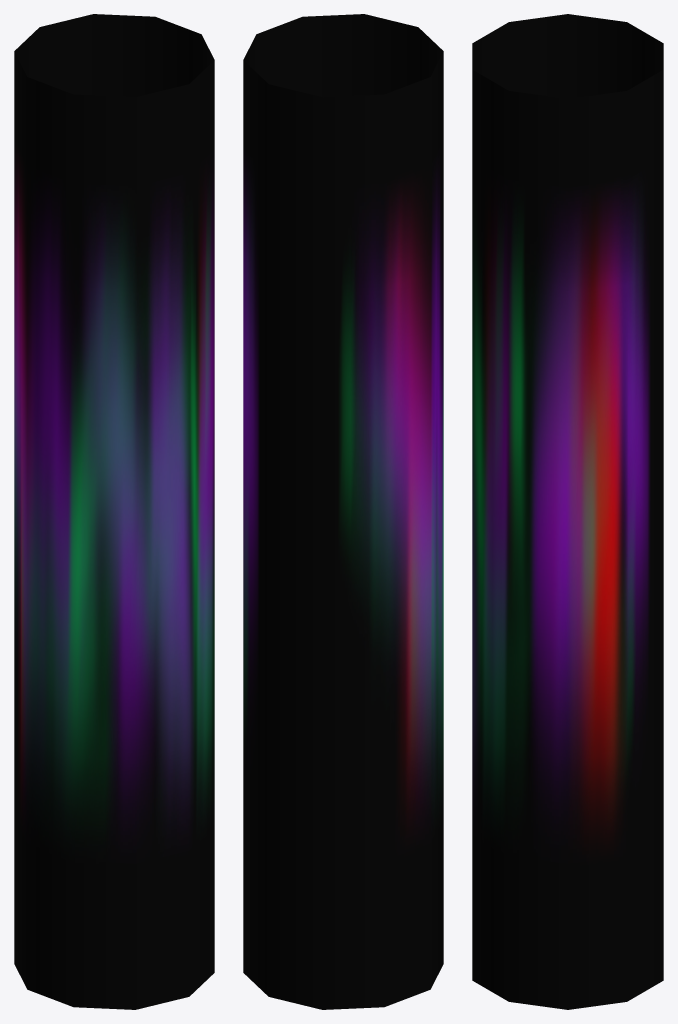
3 views of the same model, side by side, from view 1: azimuth 30°, elevation 25°; view 2: azimuth 150°, elevation 25°; view 3: azimuth 270°, elevation 25° (orthographic).
Visible parts, largest first — view 1: Cylinder001; view 2: Cylinder001; view 3: Cylinder001.
Boxes of the visible parts, x1,y1,x2,y2 form: Cylinder001: (14,14,214,1009); Cylinder001: (243,14,443,1009); Cylinder001: (472,14,663,1009).
Bounding box in the file's own units: 20000 × 100000 × 19021.
